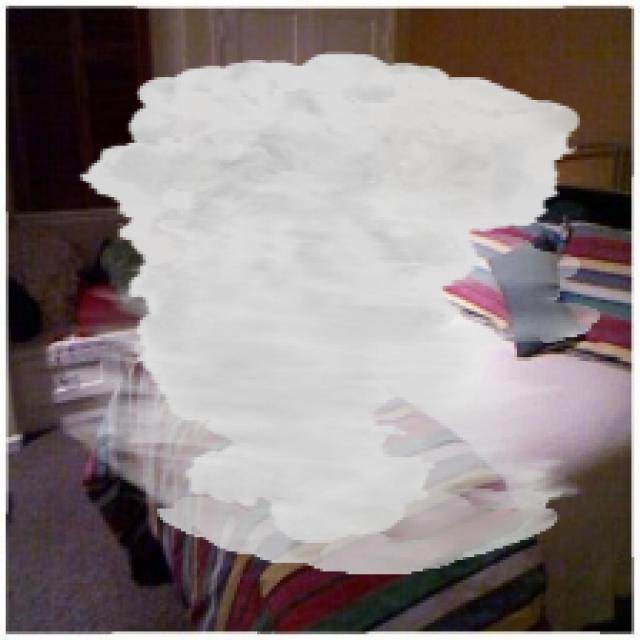smoke: (57, 52, 600, 574)
